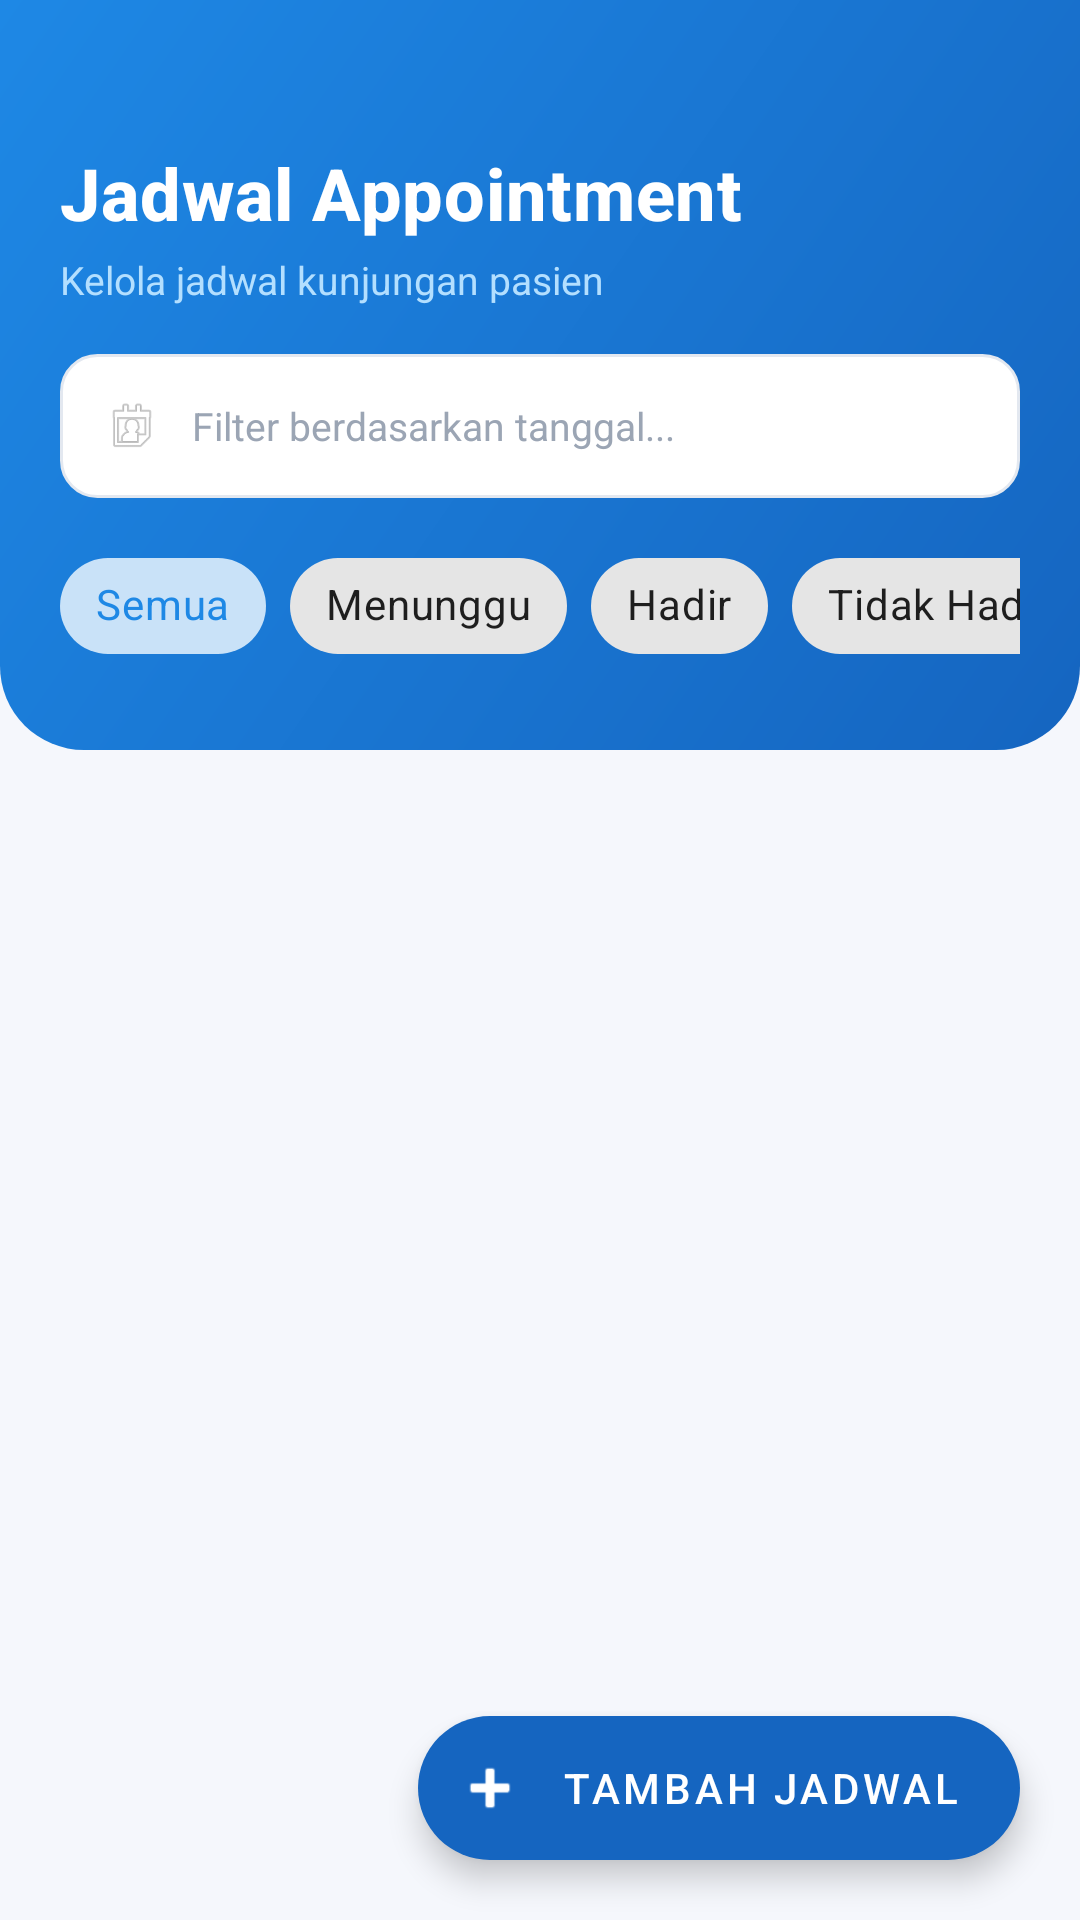

Where icons sit on this 1080w x 1920h app screen, as (x1, y1, x2, y2):
calendar: (113, 404, 151, 447)
